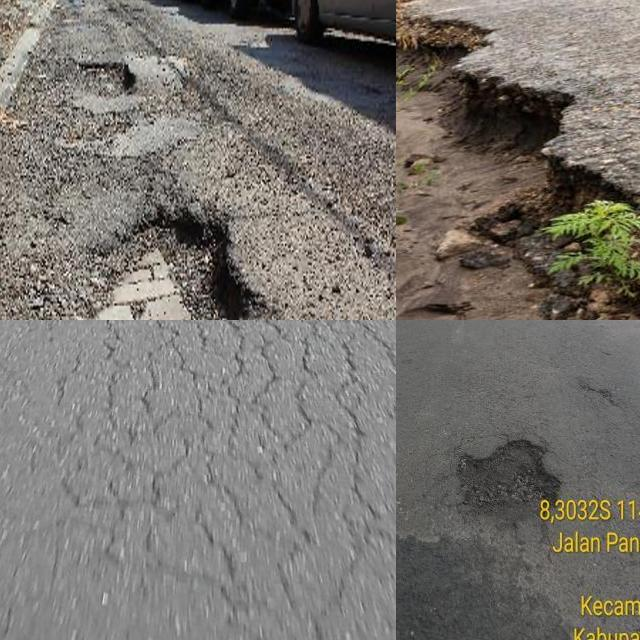Lubang: (56, 207, 256, 320), (460, 448, 555, 514), (63, 61, 121, 95)
Pinggir: (396, 5, 640, 320)
Retak Buaya: (75, 320, 396, 640)
